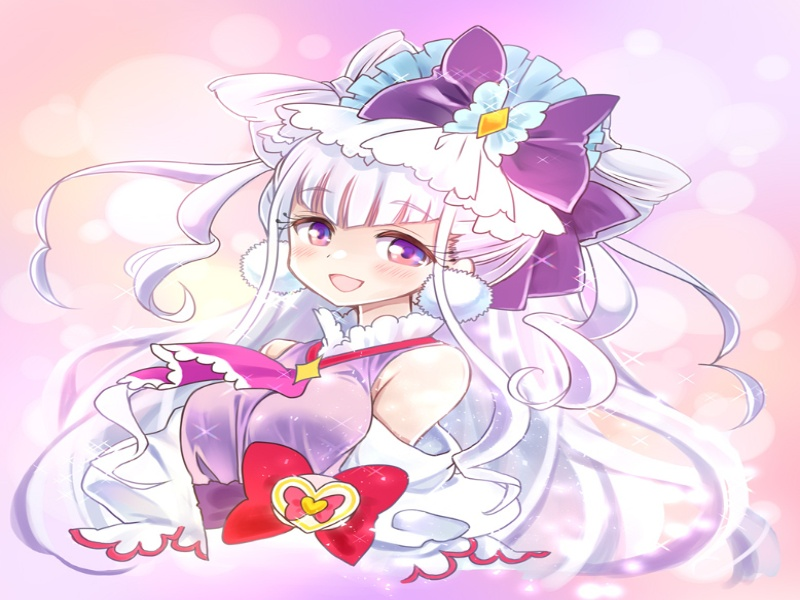person: (264, 166, 480, 325)
